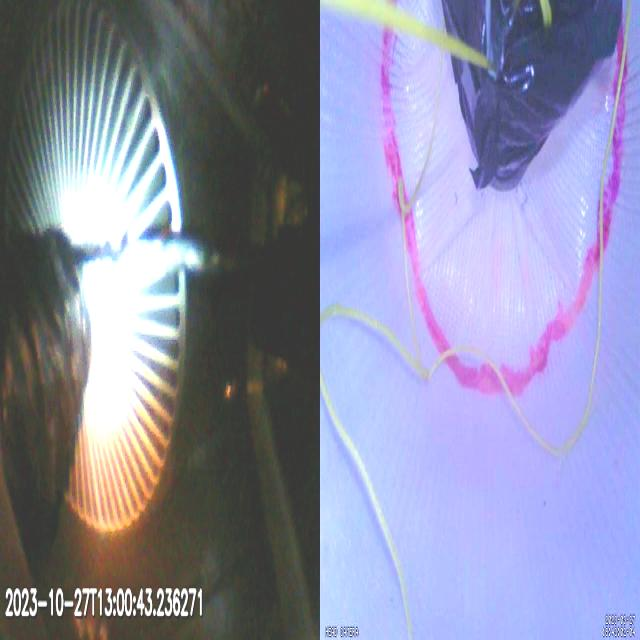red-circle: (381, 24, 629, 395)
